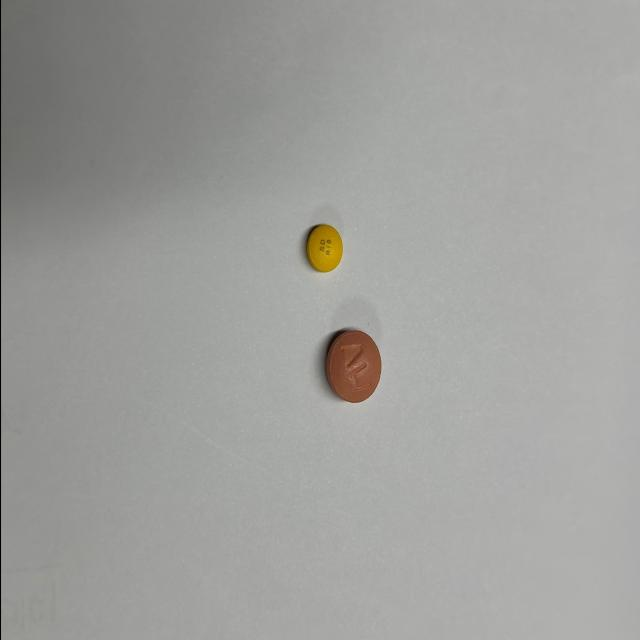Piller: (325, 330, 380, 403), (305, 225, 341, 272)
